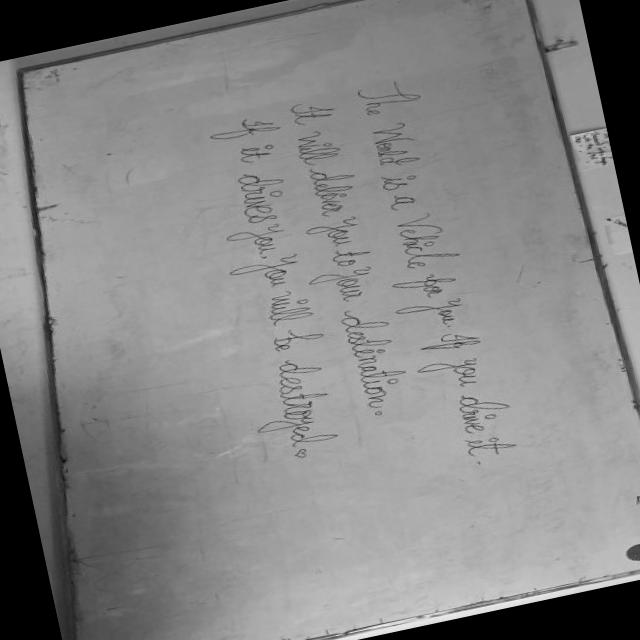White-board: (26, 0, 640, 640)
